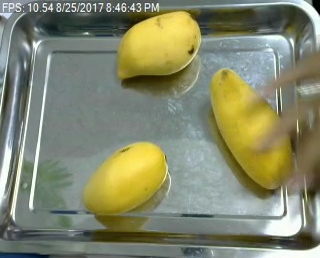Mango: (204, 68, 302, 191), (78, 138, 178, 220), (114, 7, 205, 86)
